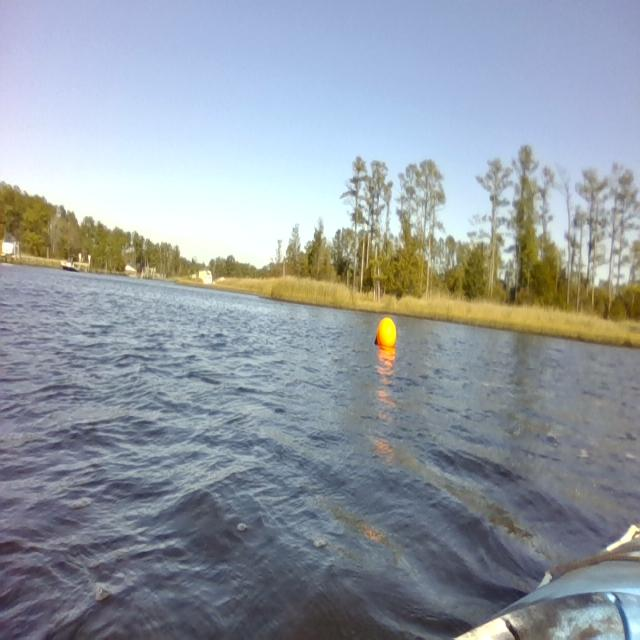Buoy: (367, 314, 403, 358)
